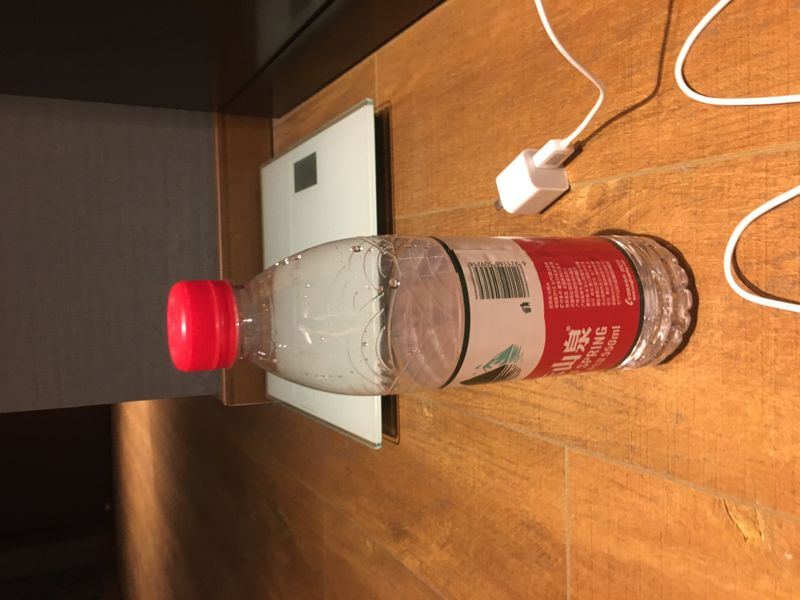5eca67a90202601e8cb8d104: (164, 233, 696, 389)
